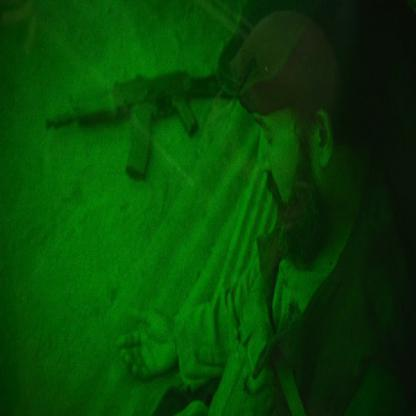Gun: (38, 50, 252, 186)
